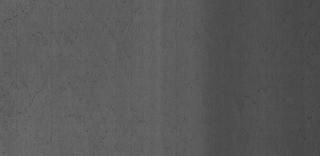silk spot: (11, 16, 118, 128)
